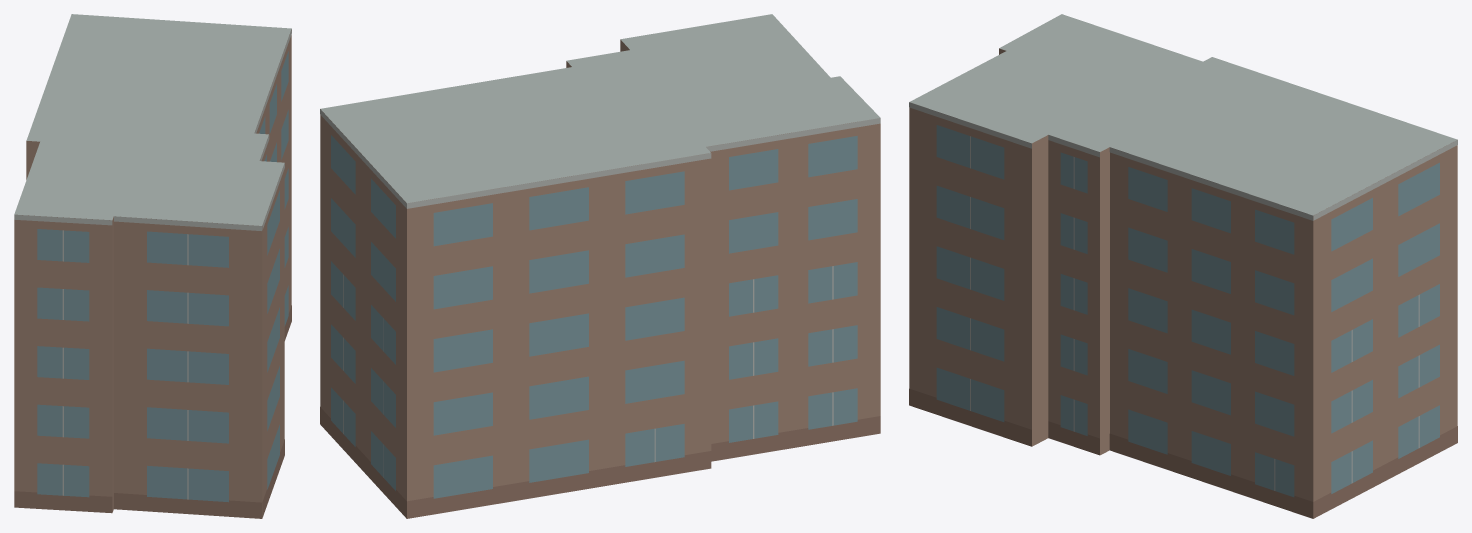
File: survey-upis-32611427.glb
3 renders of one model, left to right at view 1: azimuth 30°, elevation 25°; view 2: azimuth 150°, elevation 25°; view 3: azimuth 270°, elevation 25°, orthographic. The views are drawn at different scales.
Visible parts, largest first — view 1: survey-upis-32611427.tmp; view 2: survey-upis-32611427.tmp; view 3: survey-upis-32611427.tmp.
Part boxes in pixels (x1,y1,x2,y2): survey-upis-32611427.tmp: (14, 14, 291, 518); survey-upis-32611427.tmp: (320, 14, 880, 518); survey-upis-32611427.tmp: (909, 14, 1457, 518).
Size of the model in its own units: 19.68 by 13.8 by 22.63.
